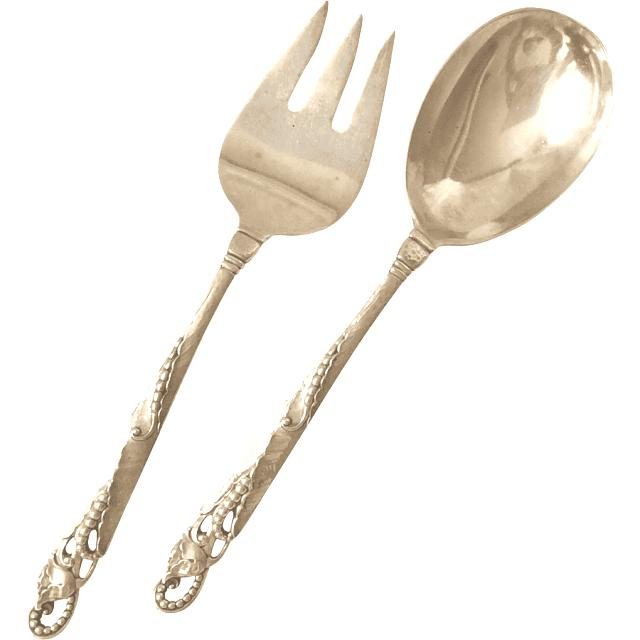Garpu: (12, 0, 398, 640)
Sendok: (121, 3, 619, 620)
